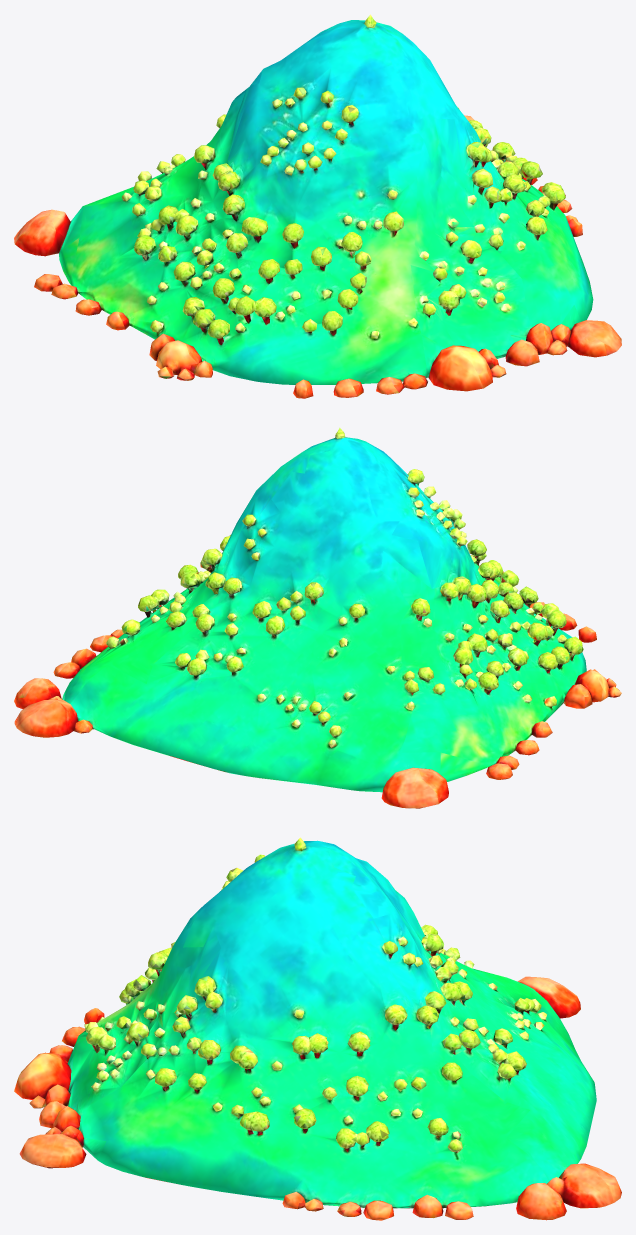
The model's file is ql_hill_lo.glb.
3 renders of one model, top to bottom at view 1: azimuth 30°, elevation 25°; view 2: azimuth 150°, elevation 25°; view 3: azimuth 270°, elevation 25°, orthographic. The views are drawn at different scales.
Parts seen in each view (by area): view 1: ql_hill; view 2: ql_hill; view 3: ql_hill.
Part boxes in pixels (x1,y1,x2,y2): ql_hill: [14, 14, 621, 398]; ql_hill: [14, 427, 621, 808]; ql_hill: [14, 837, 621, 1220].
Size of the model in its own units: 19.45 by 10.02 by 20.5.
Materials: 1 (1 with a texture image).
